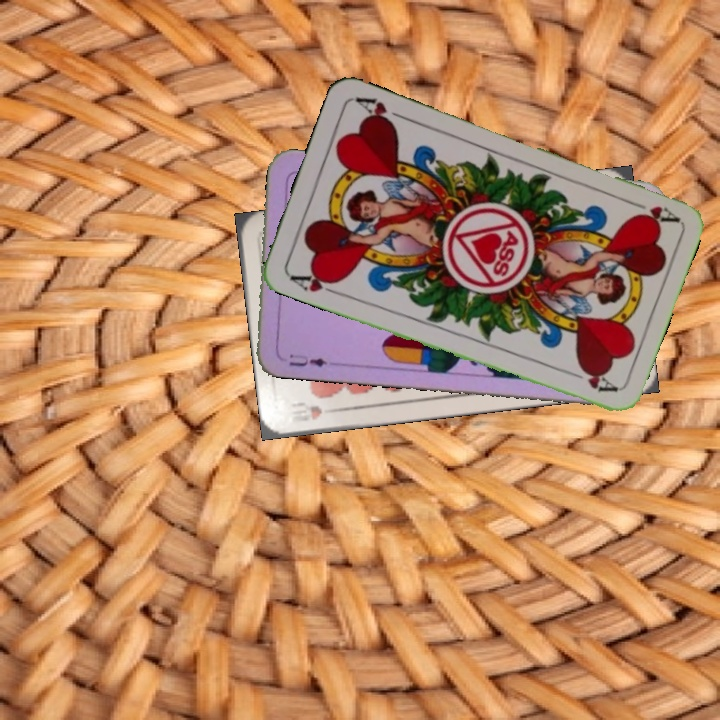EU: (285, 354, 330, 370)
H10: (284, 399, 343, 427)
HA: (285, 267, 343, 299), (623, 196, 681, 228)
